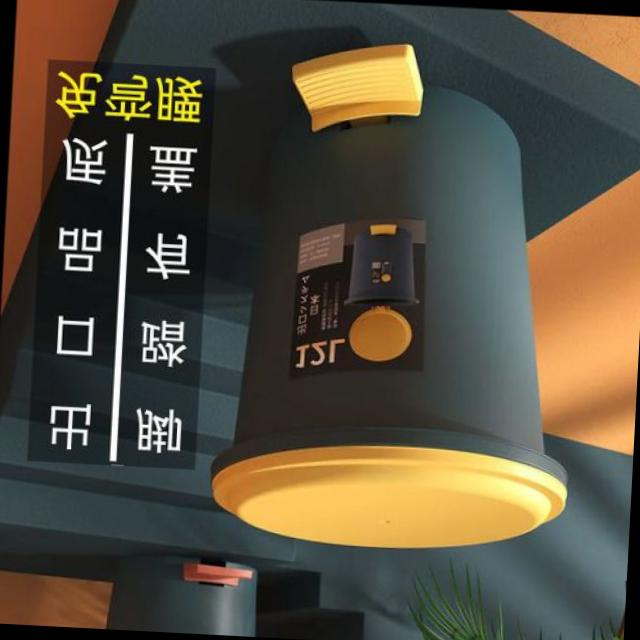dustbin: (203, 24, 599, 563)
